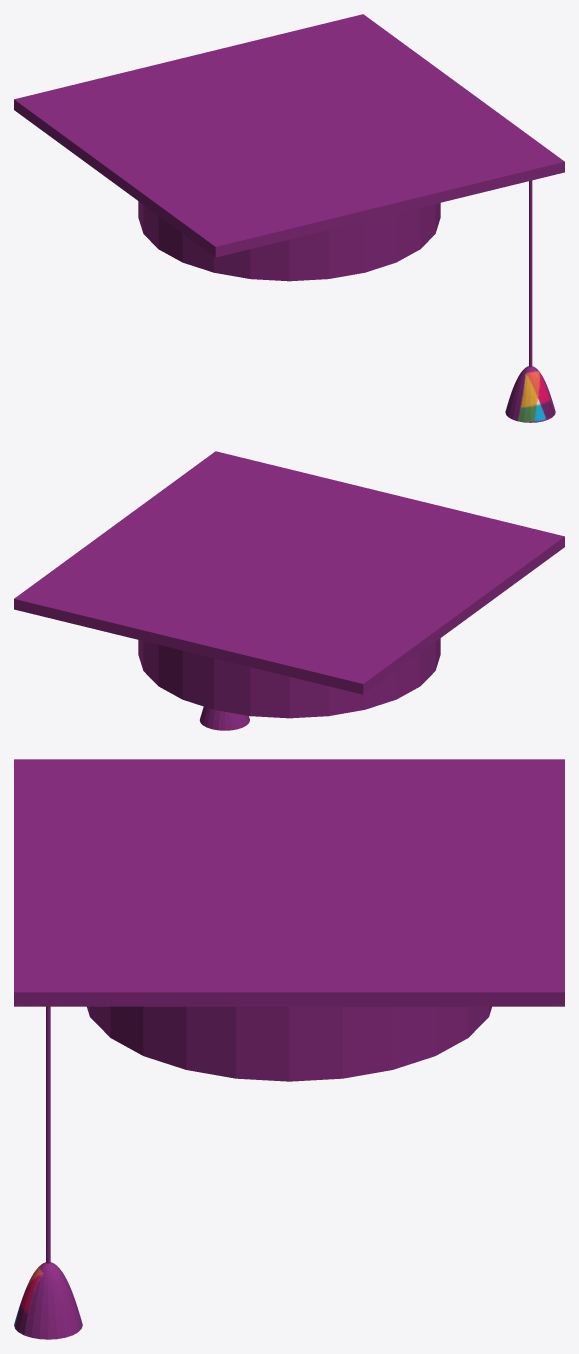
The model's file is шапочка последняя.glb.
3 views of the same model, one above another, from view 1: azimuth 30°, elevation 25°; view 2: azimuth 150°, elevation 25°; view 3: azimuth 270°, elevation 25° (orthographic). The views are drawn at different scales.
Visible parts, largest first — view 1: node_id3; view 2: node_id3; view 3: node_id3.
Part boxes in pixels (x1,y1,x2,y2): node_id3: (14, 14, 564, 422); node_id3: (14, 451, 564, 730); node_id3: (14, 759, 564, 1339).
Size of the model in its own units: 0.512 by 0.3563 by 0.512.
Materials: 1 (1 with a texture image).
